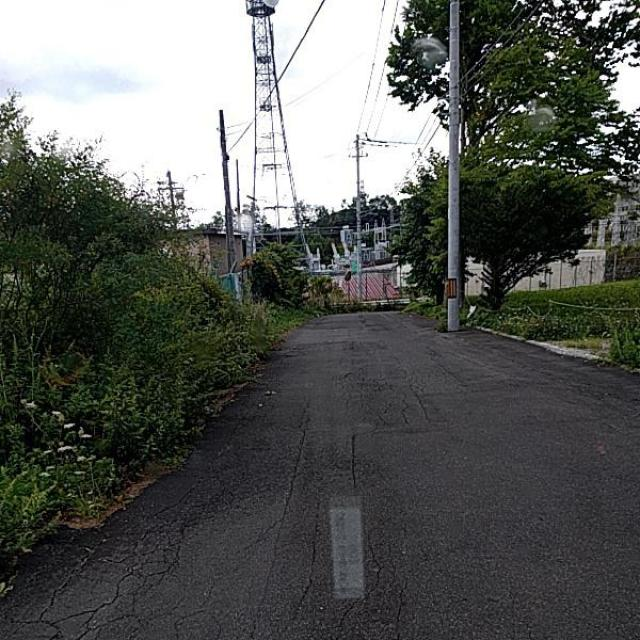Crack: (269, 317, 624, 640)
